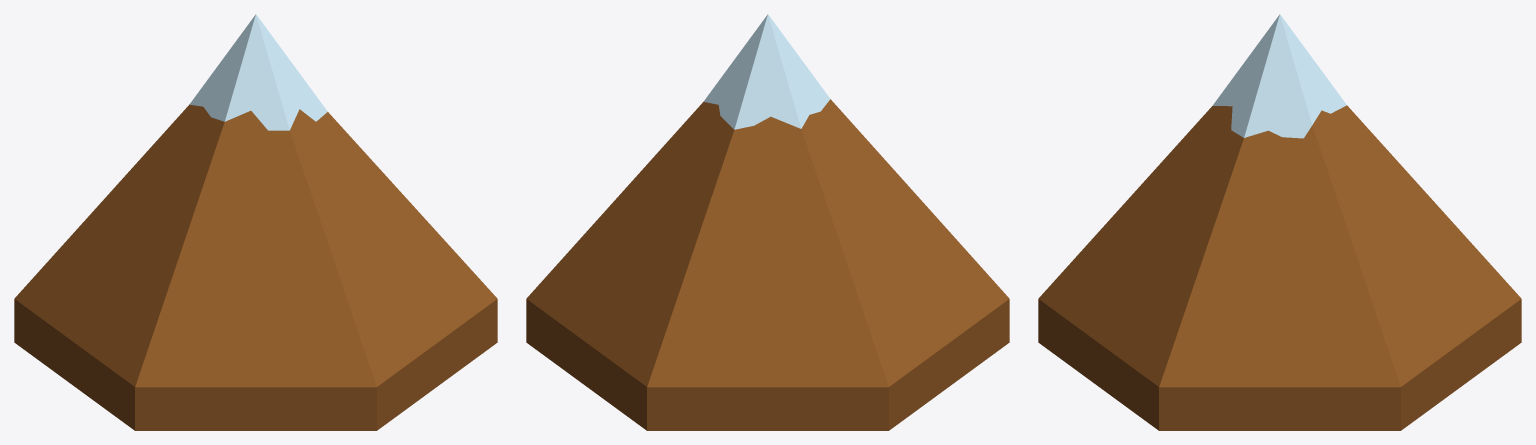
Rendered from hex_mount_pointy.fbx.
3 renders of one model, left to right at view 1: azimuth 30°, elevation 25°; view 2: azimuth 150°, elevation 25°; view 3: azimuth 270°, elevation 25°, orthographic.
Parts seen in each view (by area): view 1: Circle; view 2: Circle; view 3: Circle.
Part boxes in pixels (box(x1,y1,x2,y2)): Circle: box(14, 14, 497, 430); Circle: box(526, 14, 1009, 430); Circle: box(1038, 14, 1521, 430).
Bounding box in the file's own units: 173 × 150 × 200.
